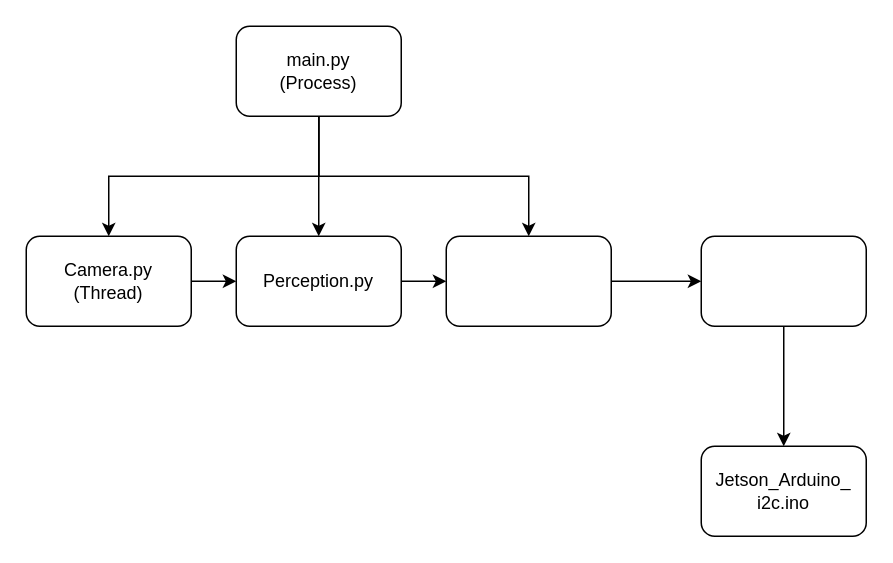
Some shapes in this 893 by 563 pixel diagram are drawn without their labels. The box of each missing label's shape, as (x1, y1, x2, y2) in pixels:
Controls.py: (445, 235, 611, 326)
i2c.py (Process): (700, 235, 866, 326)
